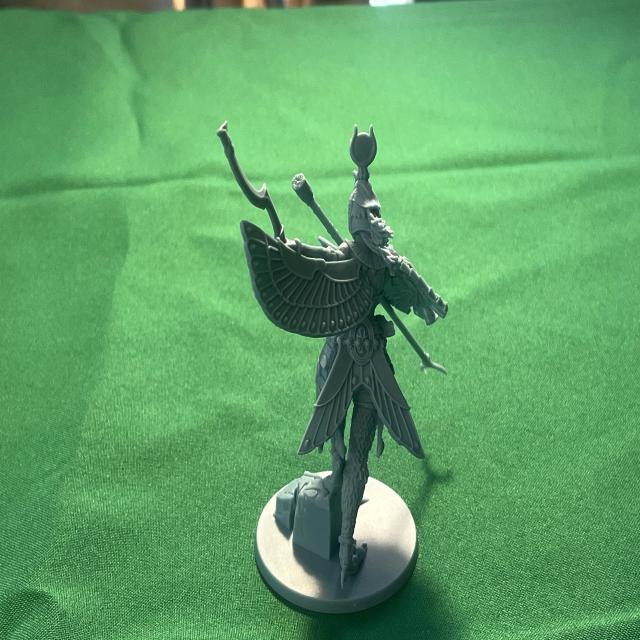isis: (210, 108, 454, 626)
